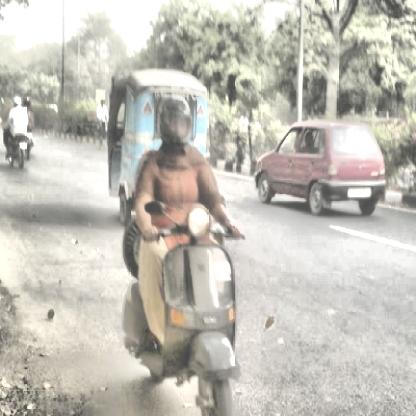wear: (157, 93, 196, 156)
